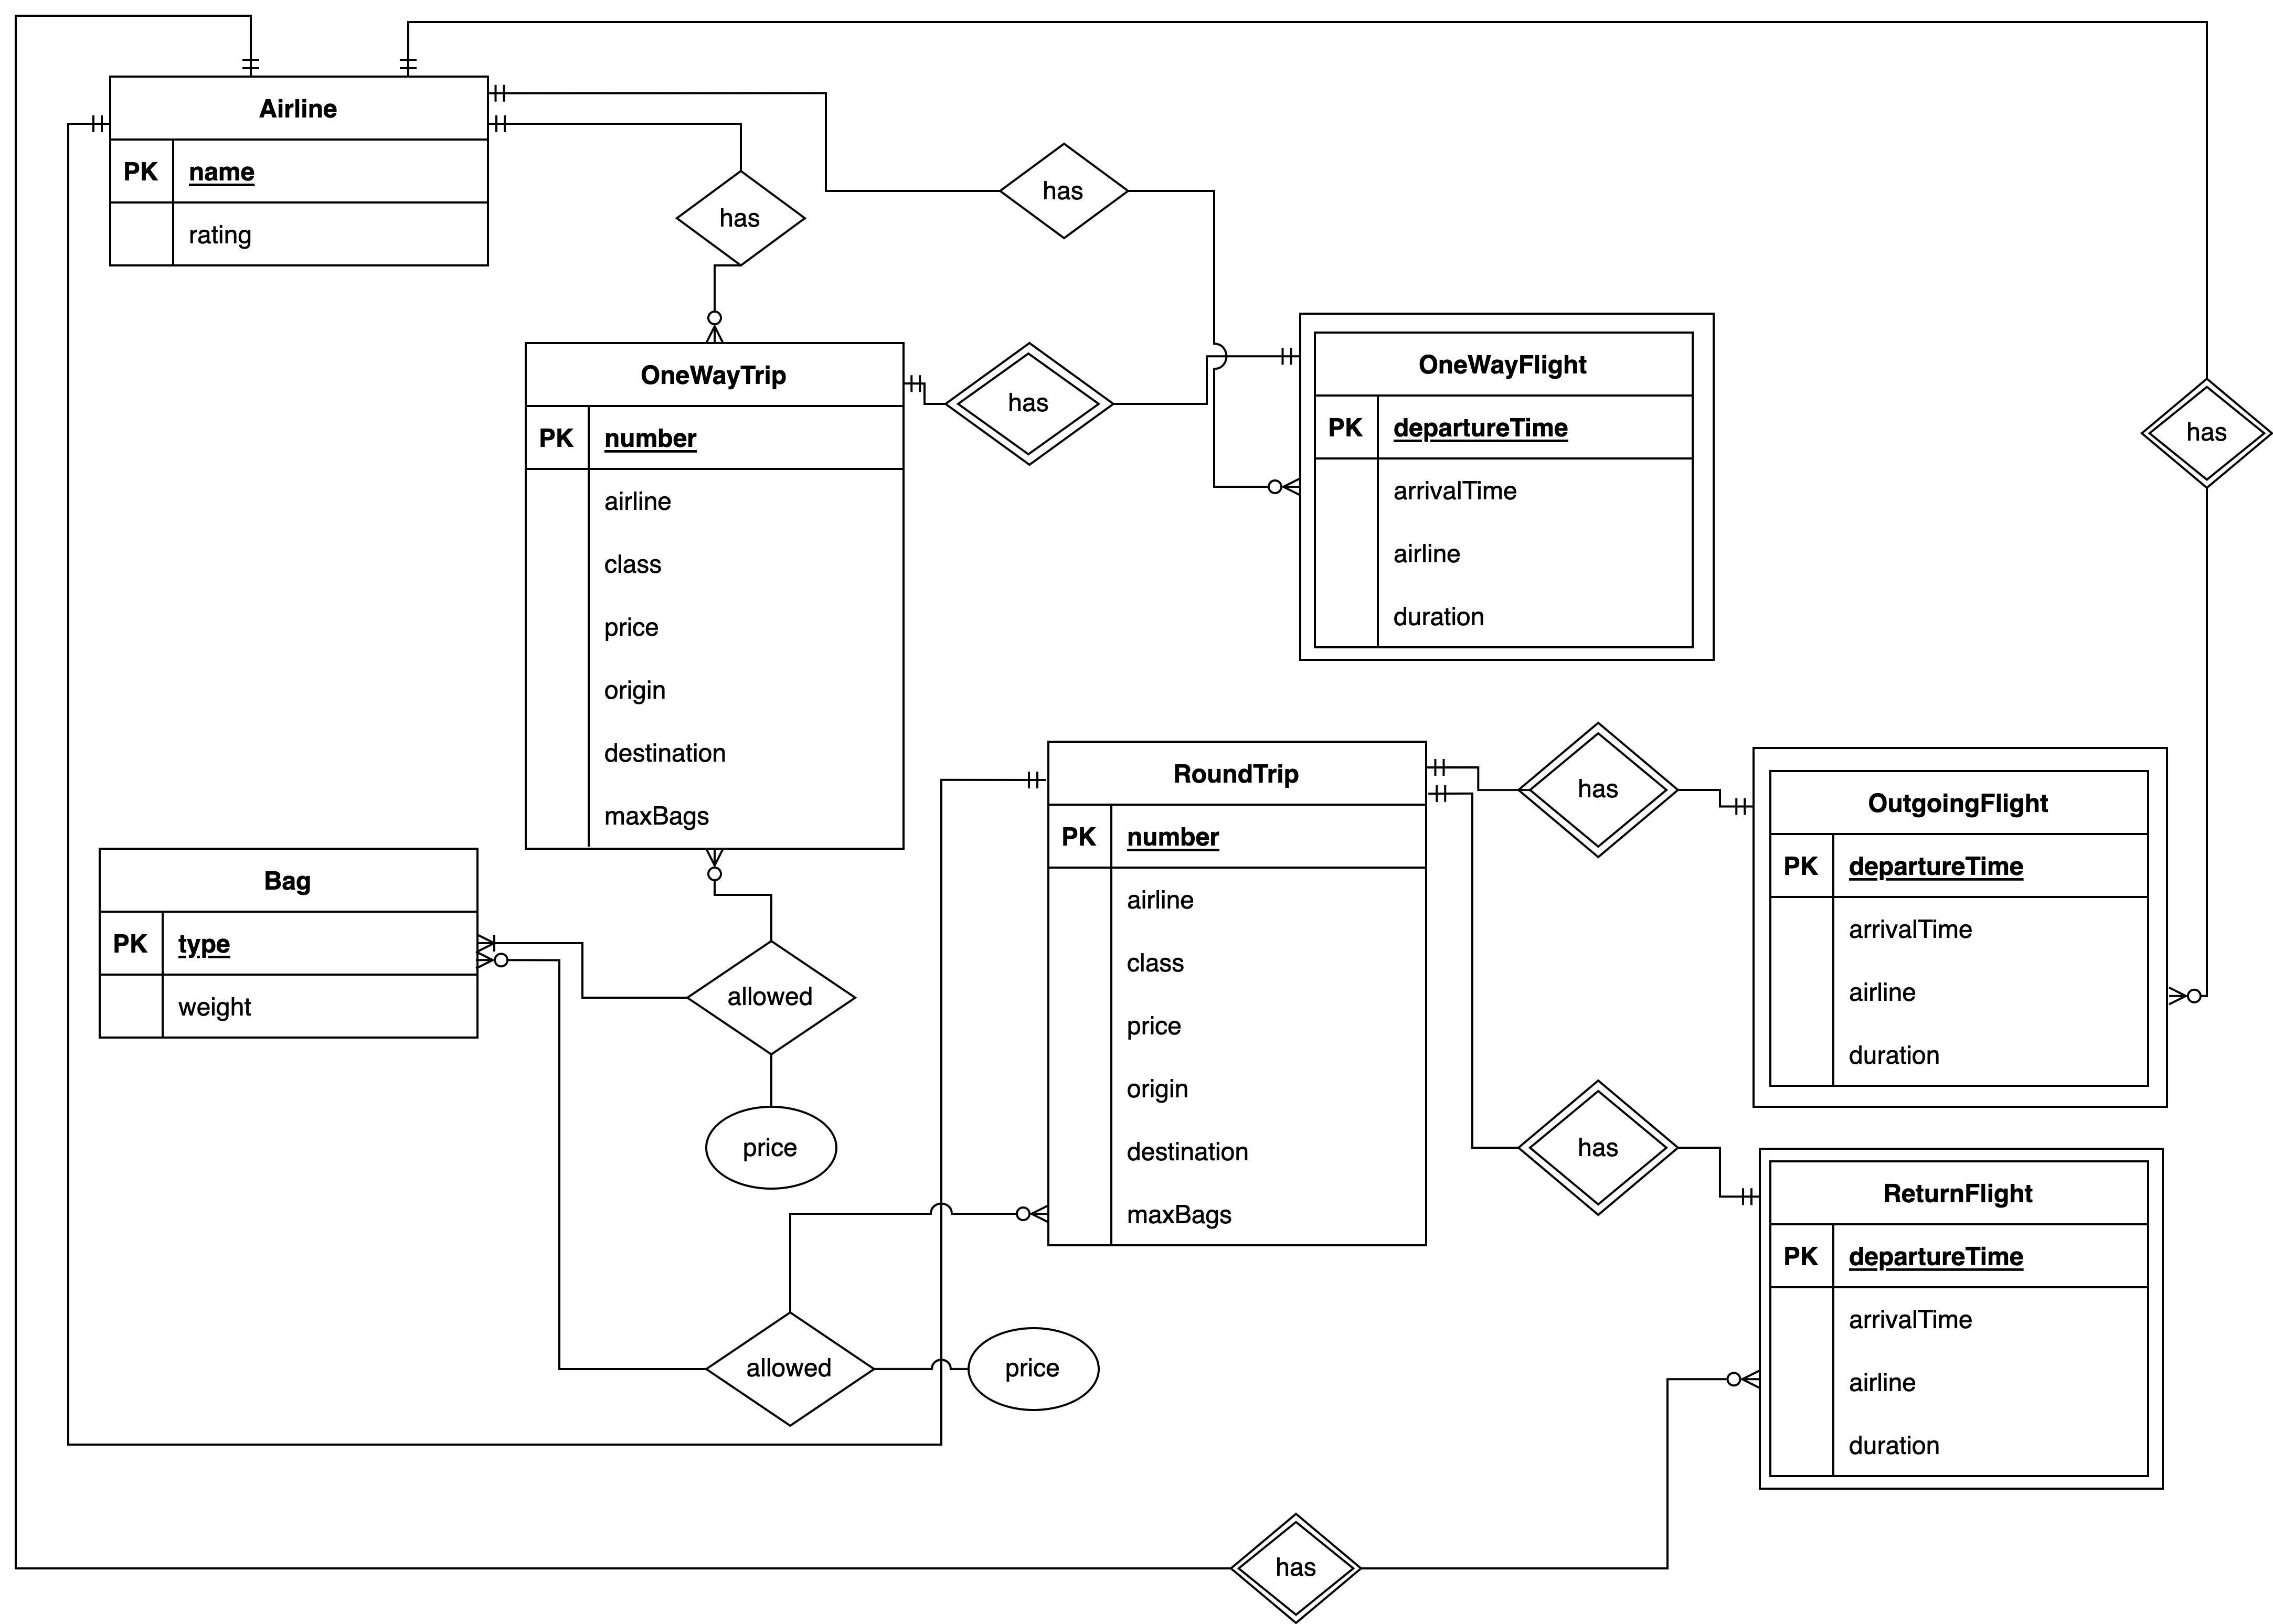attribute: (705, 1106, 839, 1192), (967, 1325, 1100, 1411)
entity: (1042, 738, 1431, 1250), (524, 343, 909, 856), (109, 69, 492, 269), (98, 842, 478, 1042)
relationship: (708, 1315, 875, 1429), (686, 940, 856, 1048), (1006, 146, 1132, 243), (680, 176, 805, 265)
weakentity: (1746, 742, 2169, 1113), (1749, 1142, 2168, 1497)
weakrelationship: (1297, 306, 1725, 664), (1517, 721, 1679, 859), (1521, 1076, 1674, 1220), (946, 341, 1115, 464), (2138, 381, 2269, 492), (1231, 1517, 1362, 1619)
